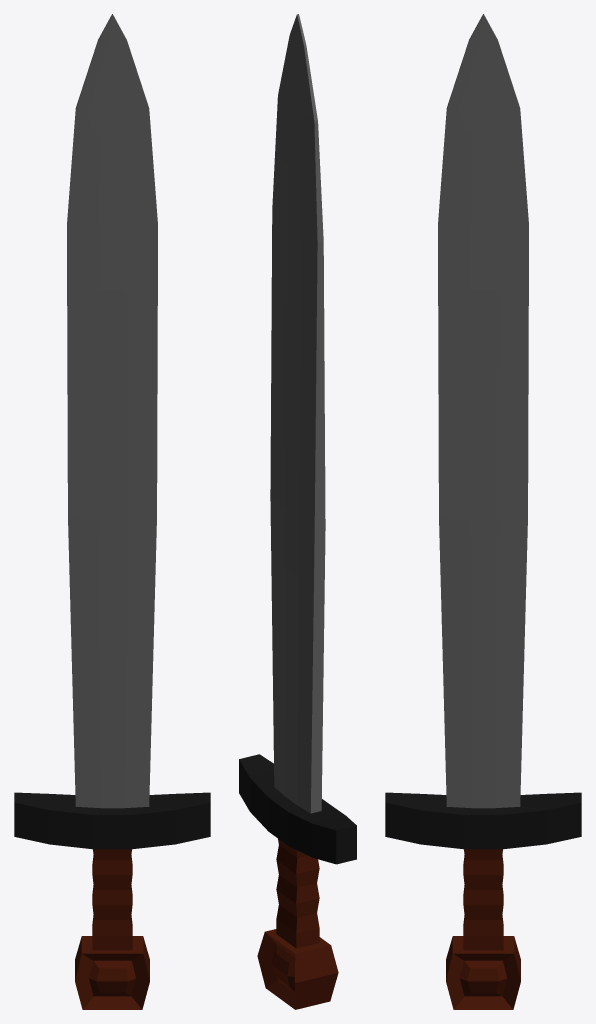
Rendered from greatsword.obj.
3 renders of one model, left to right at view 1: azimuth 90°, elevation 25°; view 2: azimuth 210°, elevation 25°; view 3: azimuth 270°, elevation 25°, orthographic.
Visible parts, largest first — view 1: Sword_Cube.001; view 2: Sword_Cube.001; view 3: Sword_Cube.001.
Boxes of the visible parts, x1,y1,x2,y2 form: Sword_Cube.001: [14, 14, 210, 1009]; Sword_Cube.001: [239, 14, 356, 1009]; Sword_Cube.001: [385, 14, 581, 1009].
Bounding box in the file's own units: 0.0638 × 1.36 × 0.245.
